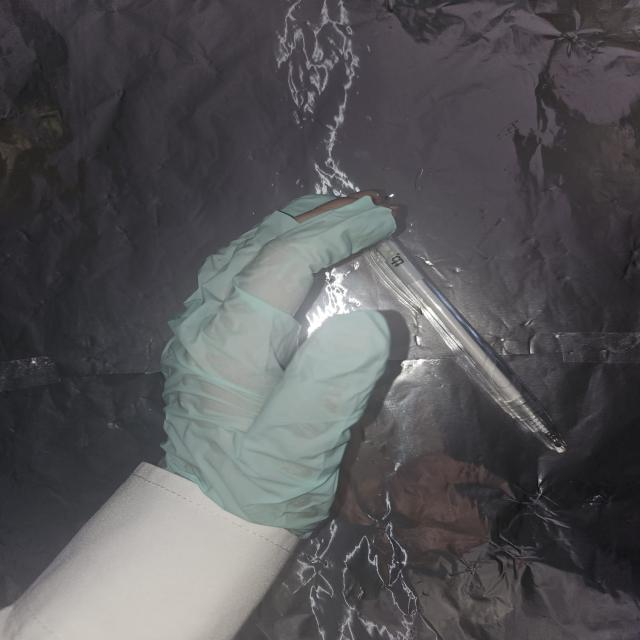gloves_damaged: (160, 186, 403, 543)
